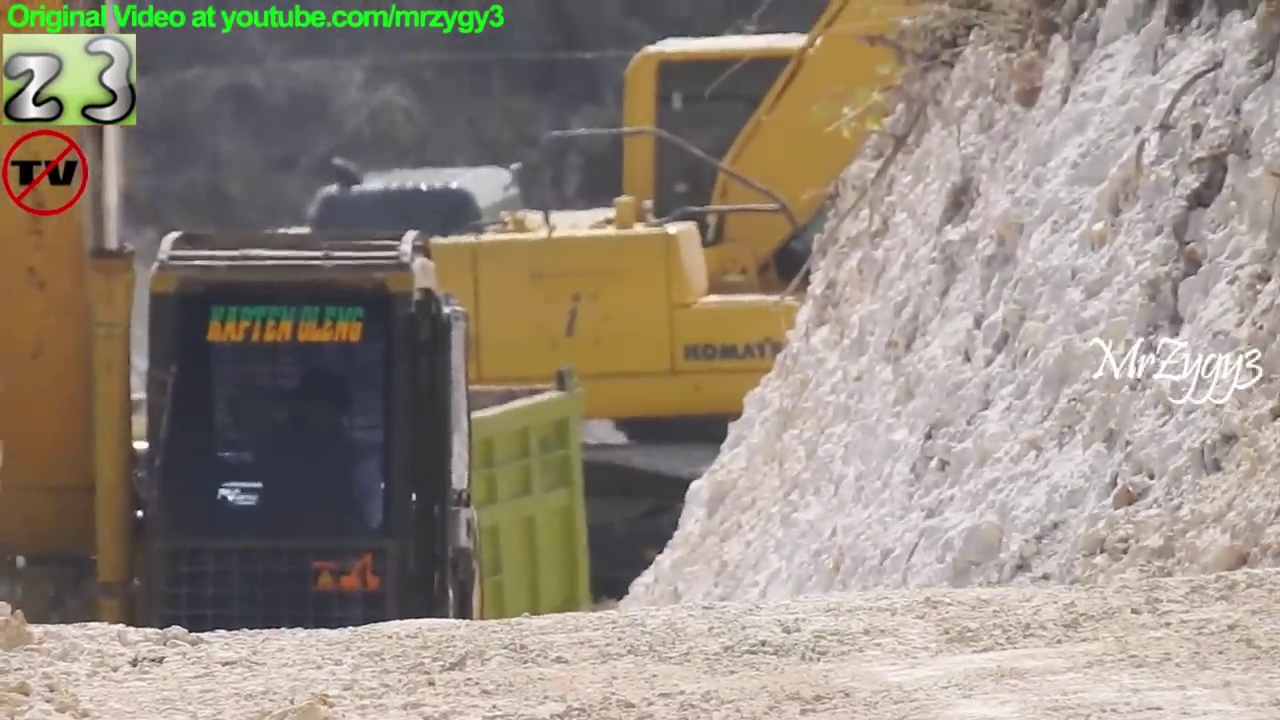excavator: (205, 1, 1071, 720), (1, 1, 526, 720)
truck: (1, 362, 598, 720)
